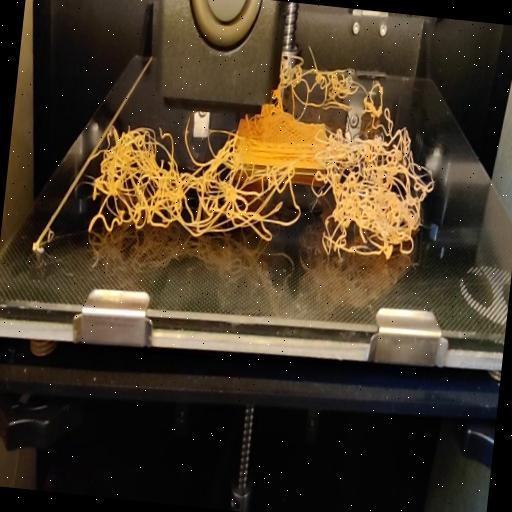spaghetti: (84, 102, 442, 284), (273, 38, 419, 140)
